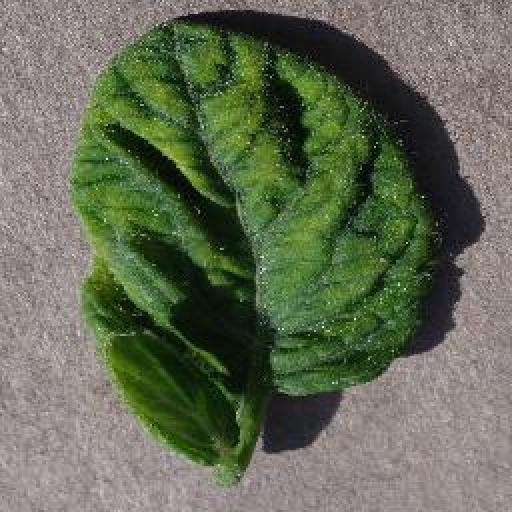disease_tomato: (69, 21, 440, 467)
